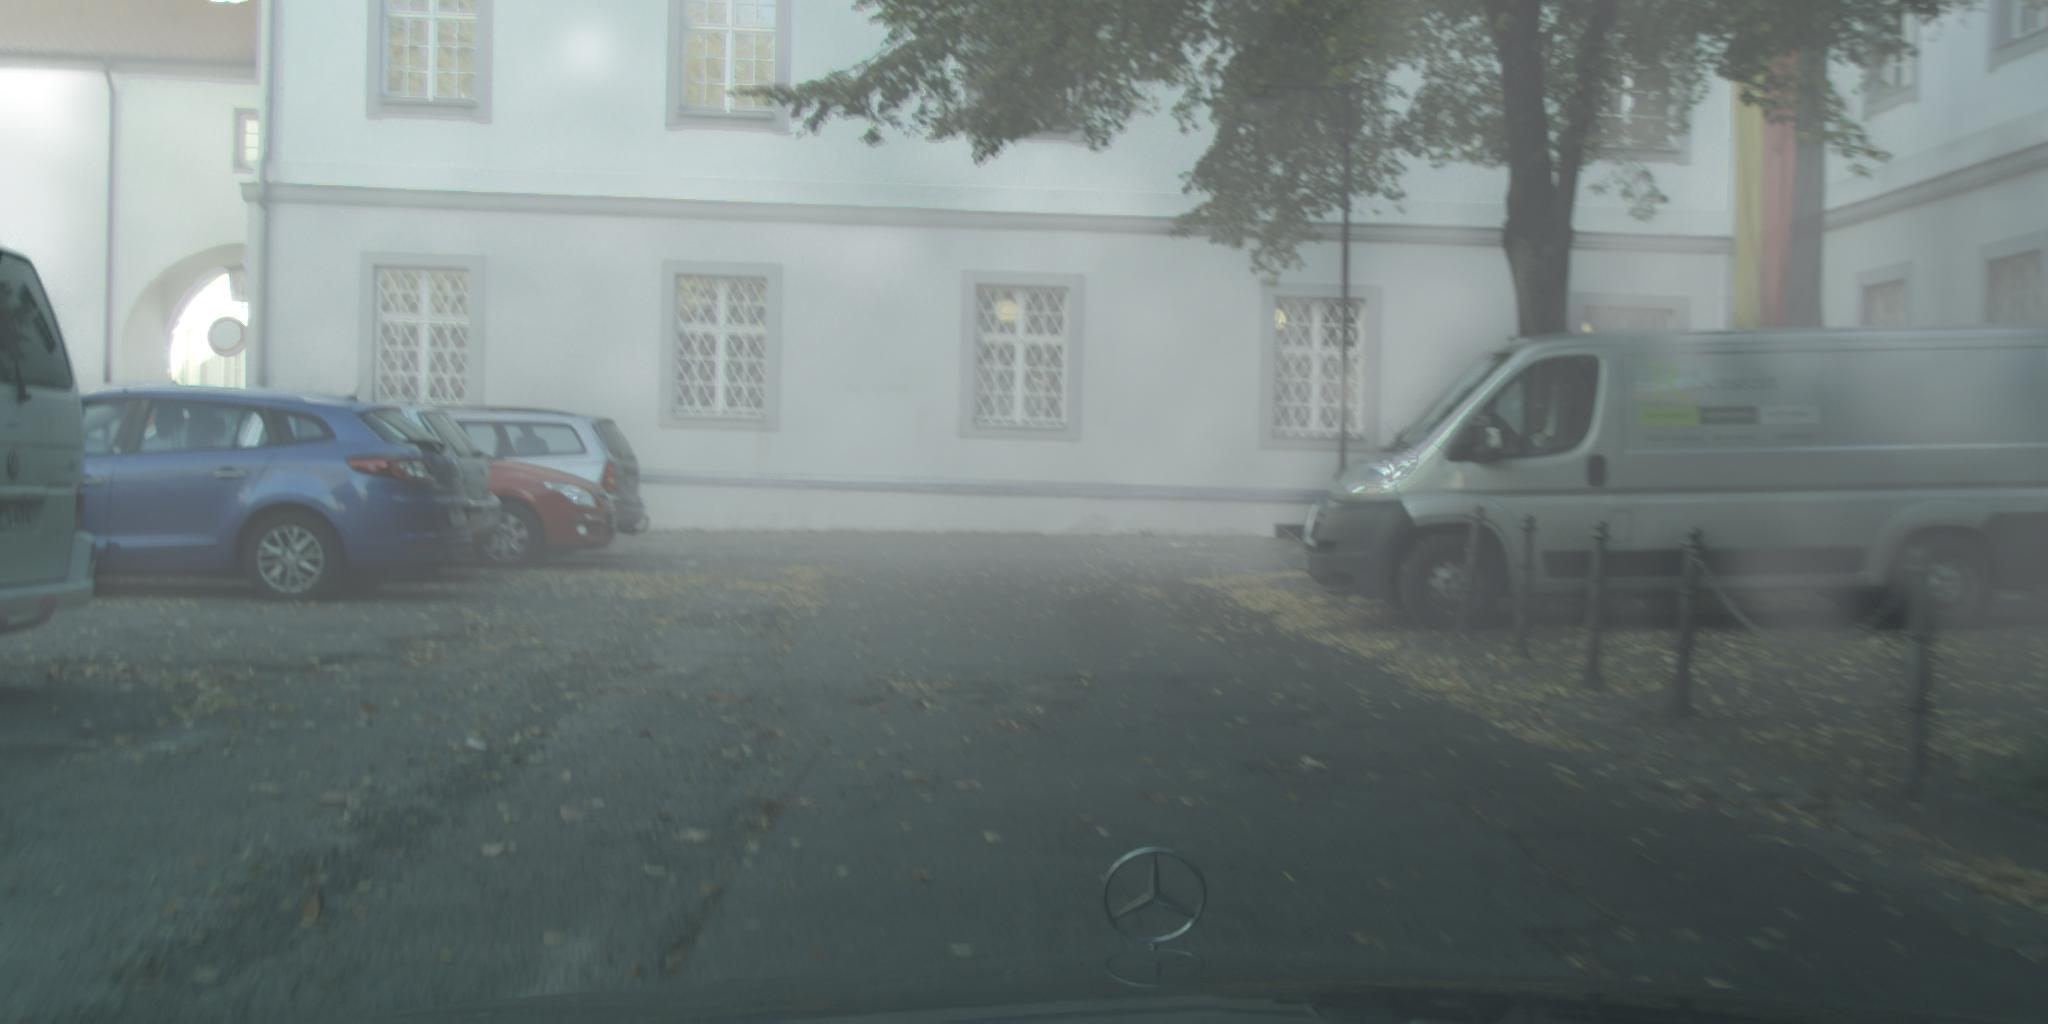car: (1306, 325, 2048, 631), (71, 385, 475, 603), (1, 246, 101, 637), (439, 408, 647, 528), (377, 406, 505, 541), (477, 455, 616, 573)
